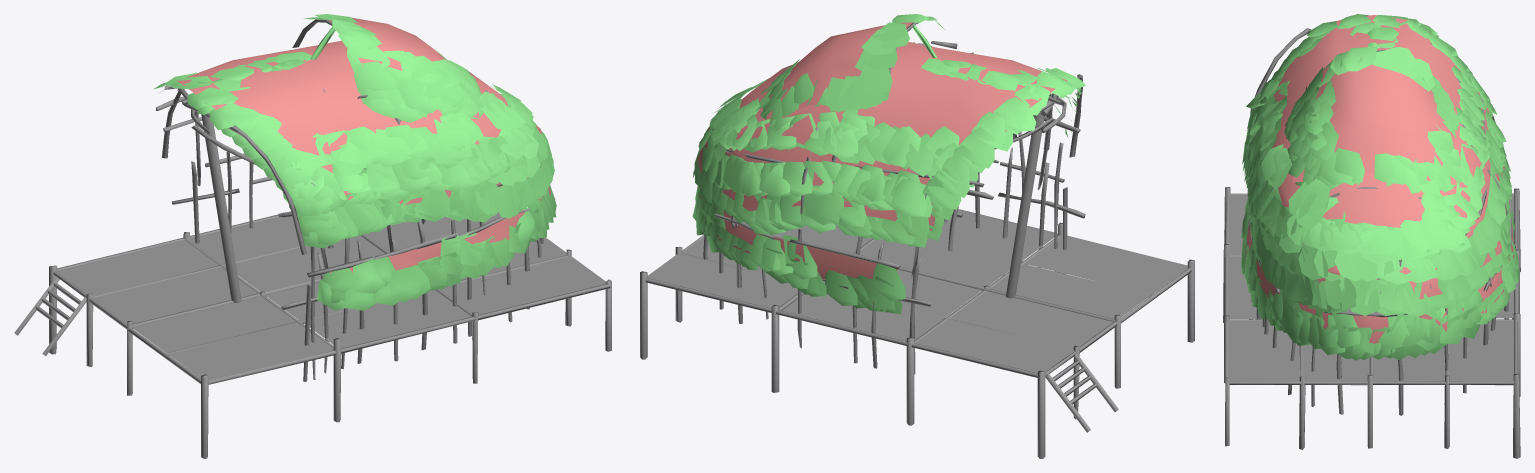
Rendered from SM_village_tent_medium_A.gltf.
3 views of the same model, side by side, from view 1: azimuth 30°, elevation 25°; view 2: azimuth 150°, elevation 25°; view 3: azimuth 270°, elevation 25° (orthographic). The views are drawn at different scales.
Visible parts, largest first — view 1: SM_village_tent_medium_A; view 2: SM_village_tent_medium_A; view 3: SM_village_tent_medium_A.
Part boxes in pixels (<box>): SM_village_tent_medium_A: <box>14,14,611,458</box>; SM_village_tent_medium_A: <box>640,14,1194,458</box>; SM_village_tent_medium_A: <box>1223,14,1520,458</box>.
Size of the model in its own units: 16.69 by 11.73 by 9.86.
